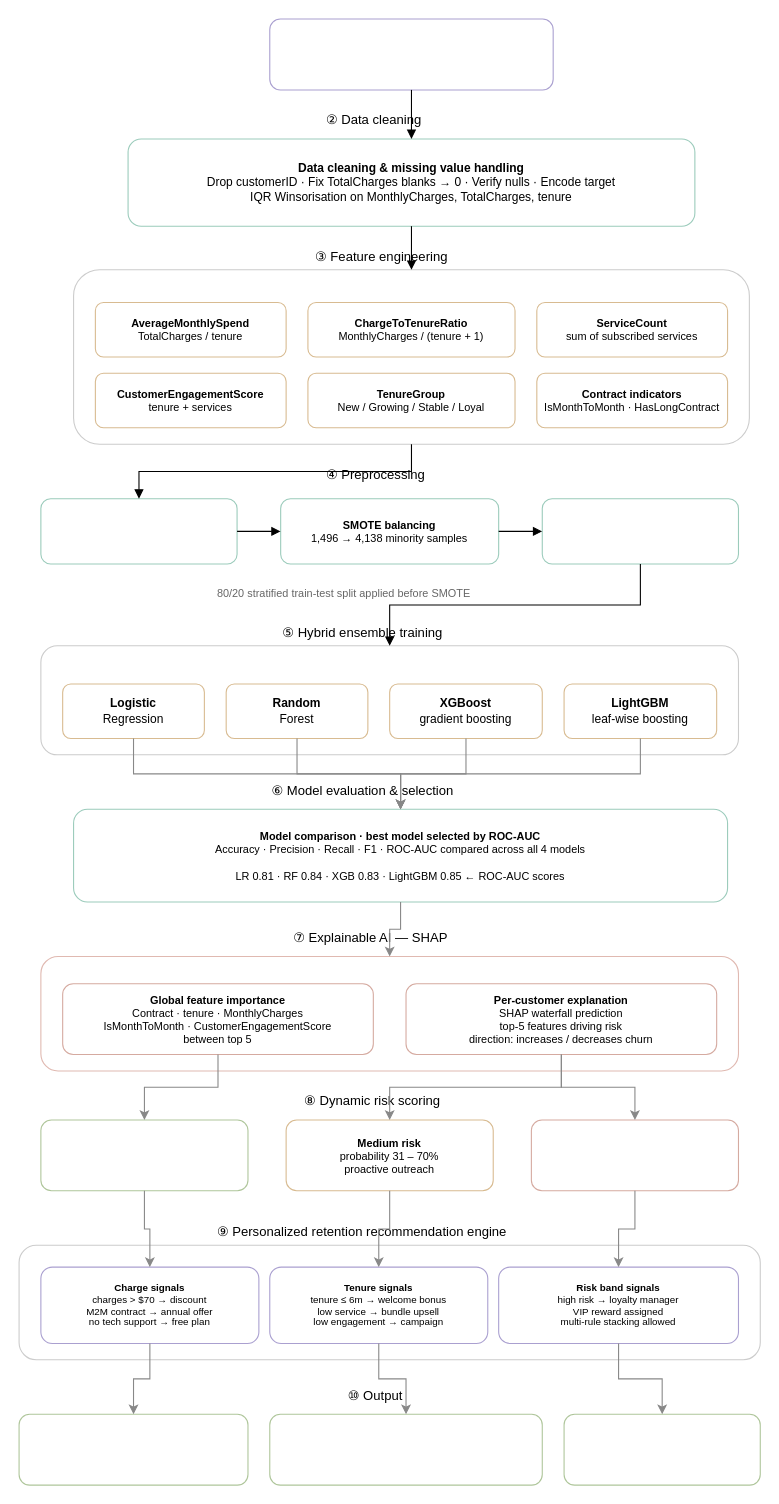
The diagram is 779 pixels wide and 1504 high, and some of its shapes have lost their labels. The shapes that lost their labels are listed below. From the top down, each one's box as (x1, y1, x2, y2) in pixels, then its label:
(269, 18, 553, 90): Telco Customer Churn dataset 7,043 rows · 21 columns · CSV
(72, 269, 749, 444): 7 derived features
(40, 498, 237, 564): Label encoding LabelEncoder per category
(541, 498, 738, 564): StandardScaler normalise all numerical features
(40, 645, 738, 755): 5-fold stratified cross-validation
(40, 1119, 248, 1191): Low risk probability 0 – 30% monitor quarterly
(530, 1119, 738, 1191): High risk probability 71 – 100% immediate action
(18, 1413, 248, 1485): Saved artefacts model · encoders · scaler .pkl
(269, 1413, 542, 1485): Prediction report churn · probability · risk · SHAP · recommendations
(563, 1413, 760, 1485): Streamlit dashboard gauge · SHAP chart · risk panel
